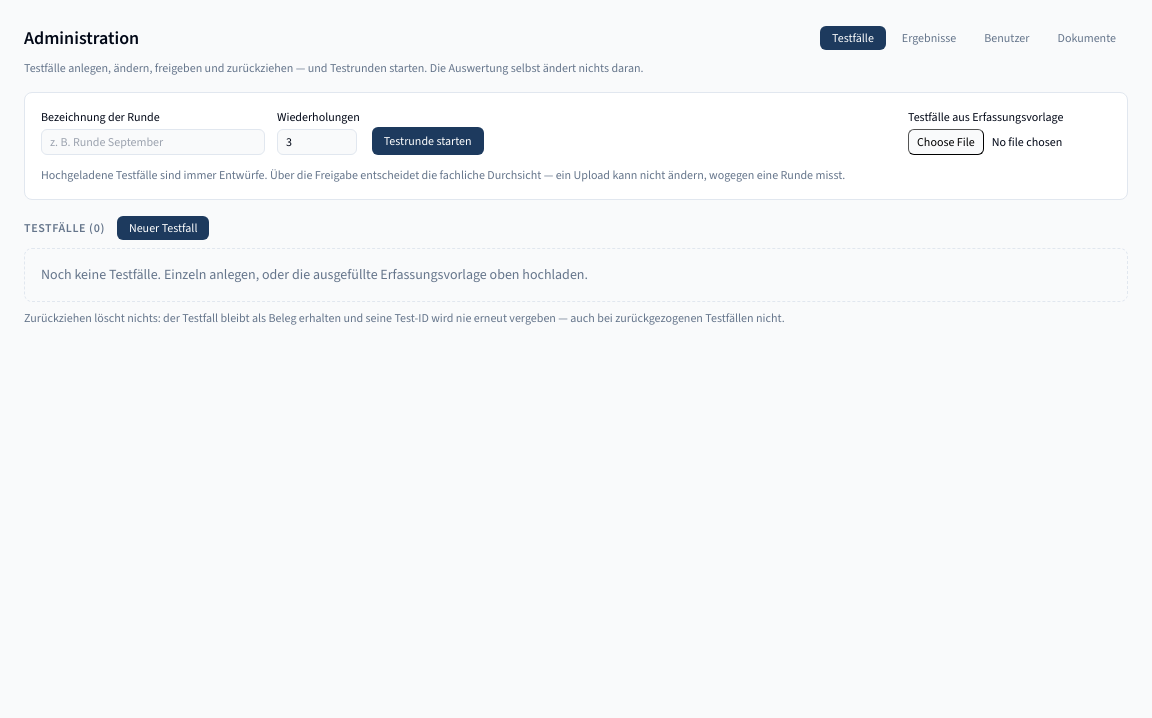
what a case cannot be saved without › asks a Grenzfall for no source at all
The image size is (1152, 718).
Expected: the text "Noch keine Testfälle" is shown, [41, 265, 588, 284]
Click the button "Neuer Testfall" at coordinates (163, 228), box [117, 216, 209, 240]
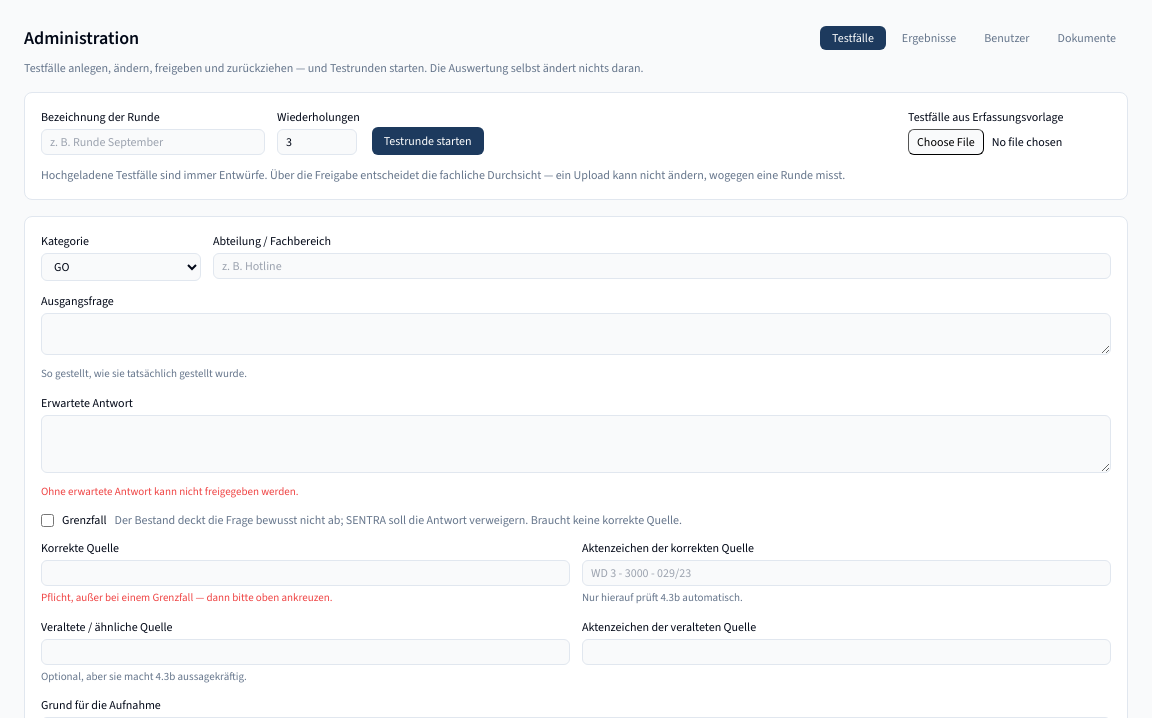
Type "Mars?" into the text box labelled "Ausgangsfrage" at coordinates (576, 334), box [41, 313, 1111, 355]
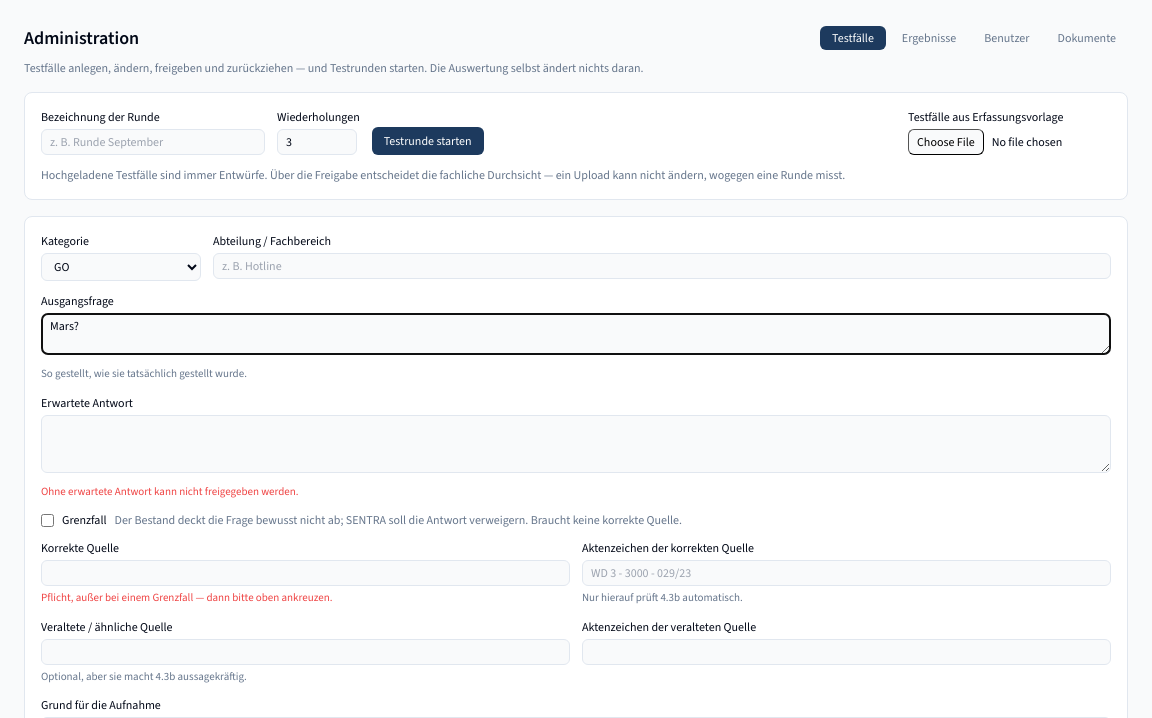
Type "Keine Antwort." into the text box labelled "Erwartete Antwort" at coordinates (576, 444), box [41, 414, 1111, 472]
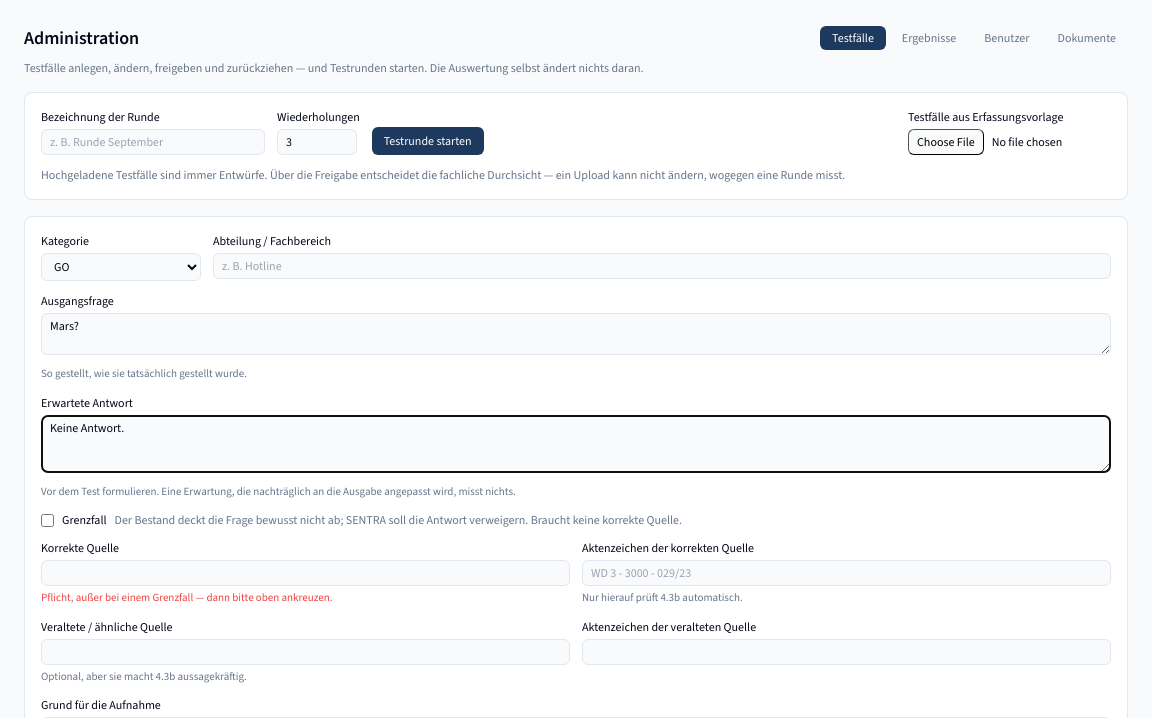
Click the checkbox labelled "Grenzfall" at coordinates (48, 520), box [41, 514, 54, 526]
(page scrolled)
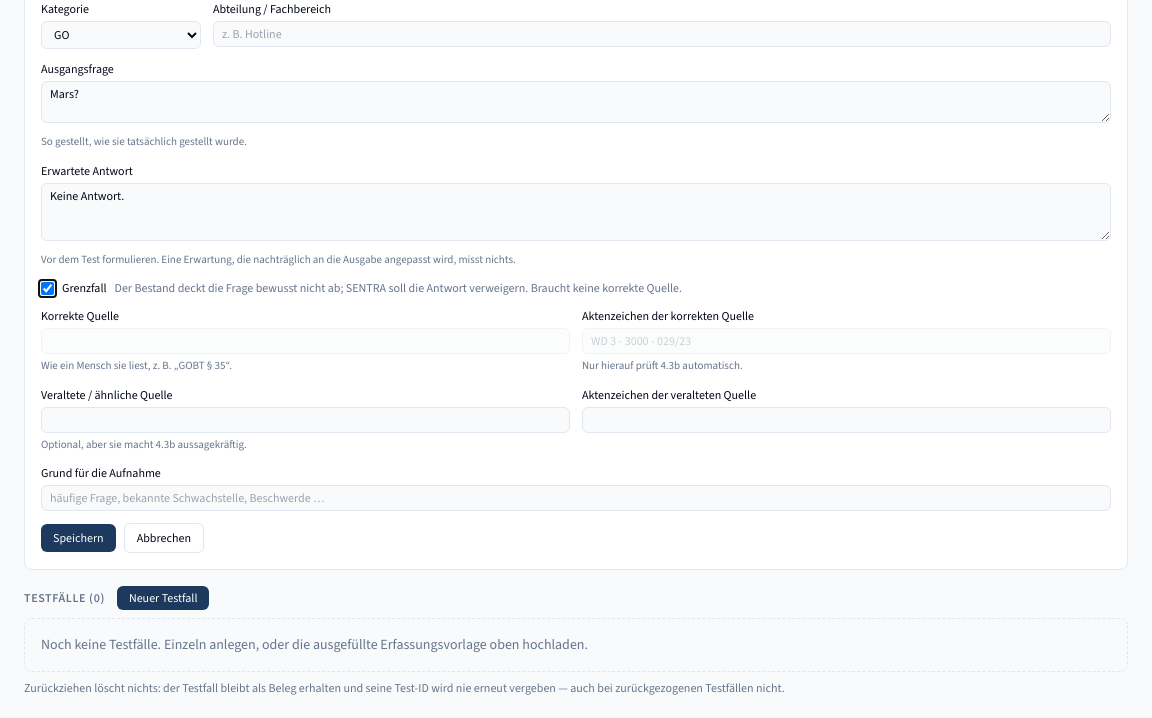
Expected: the text "außer bei einem Grenzfall" is gone
Expected: the button "Speichern" is enabled, [41, 524, 116, 552]
